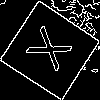X: (25, 25, 82, 78)
